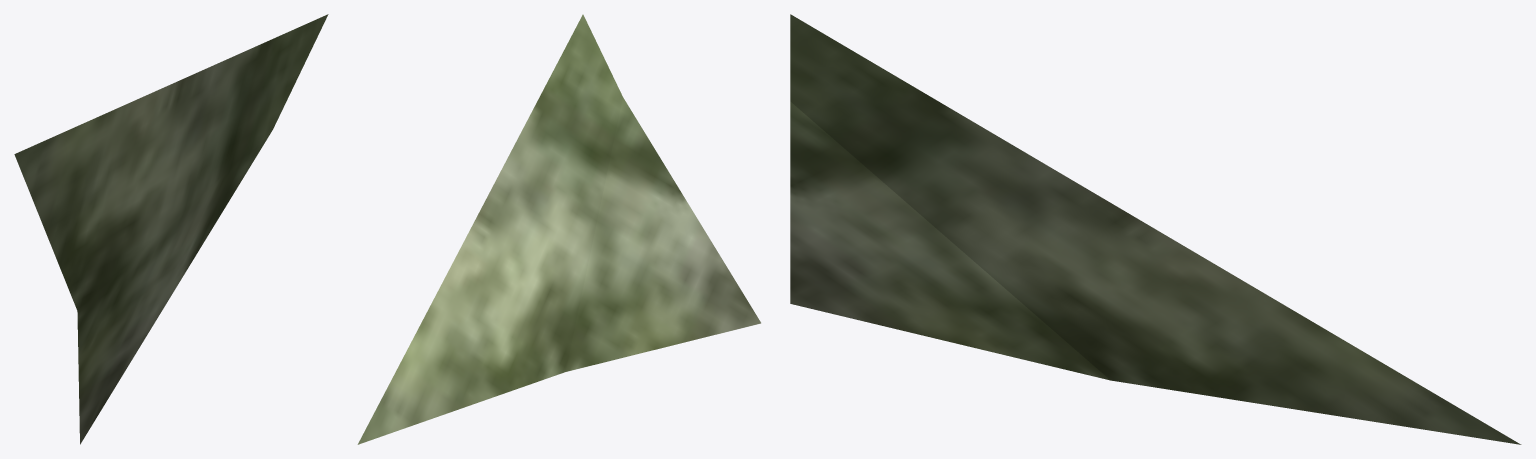
3 renders of one model, left to right at view 1: azimuth 30°, elevation 25°; view 2: azimuth 150°, elevation 25°; view 3: azimuth 270°, elevation 25°, orthographic. The views are drawn at different scales.
Bounding box in the file's own units: 0.38 × 0.541 × 0.8322.
1 material, 1 textured.
